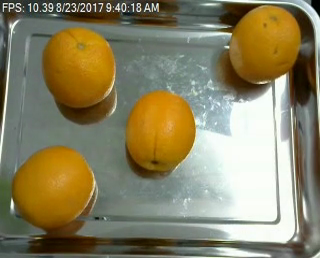Orange: (12, 144, 96, 228), (42, 26, 116, 107), (227, 6, 300, 84), (126, 91, 196, 171)
